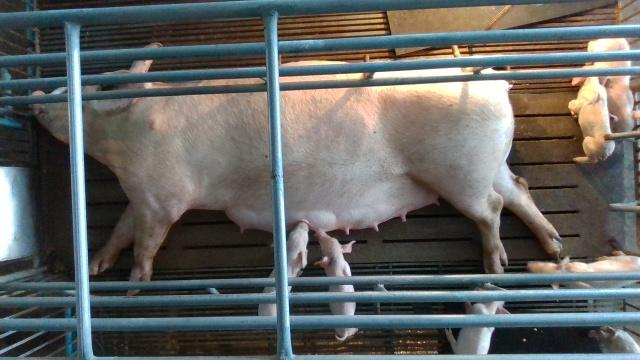piglet: (588, 37, 640, 142), (258, 218, 310, 318), (525, 249, 640, 292), (315, 231, 358, 342), (445, 284, 512, 355), (570, 65, 615, 165), (588, 325, 640, 354)
sow-sleep-lactate: (27, 41, 562, 294)
